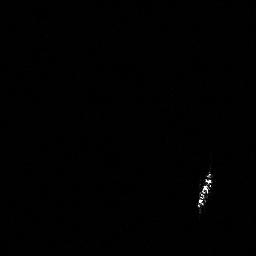ship: (191, 166, 220, 213)
